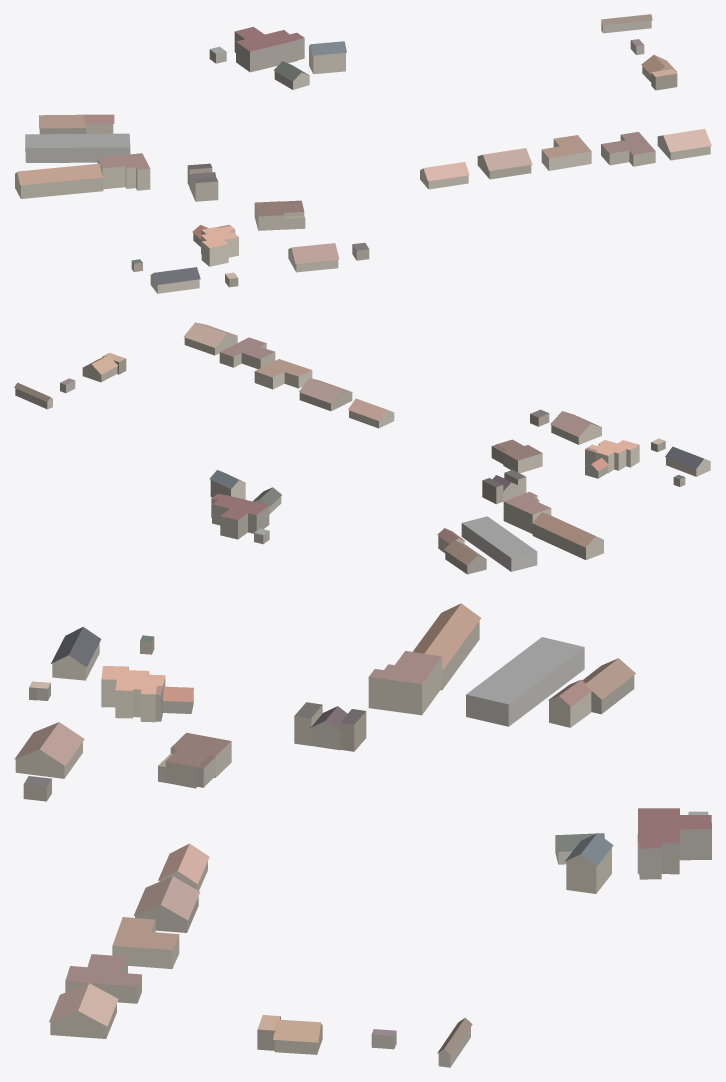
The picture shows the model from 3 angles, top to bottom: view 1: azimuth 30°, elevation 25°; view 2: azimuth 150°, elevation 25°; view 3: azimuth 270°, elevation 25°; orthographic projection. The views are drawn at different scales.
Parts seen in each view (by area): view 1: tuile; view 2: tuile; view 3: tuile.
Boxes of the visible parts, left/top/right/bottom form: tuile: left=15, top=14, right=711, bottom=293; tuile: left=14, top=322, right=710, bottom=574; tuile: left=14, top=603, right=711, bottom=1067.
Bounding box in the file's own units: 266 × 16.85 × 170.
